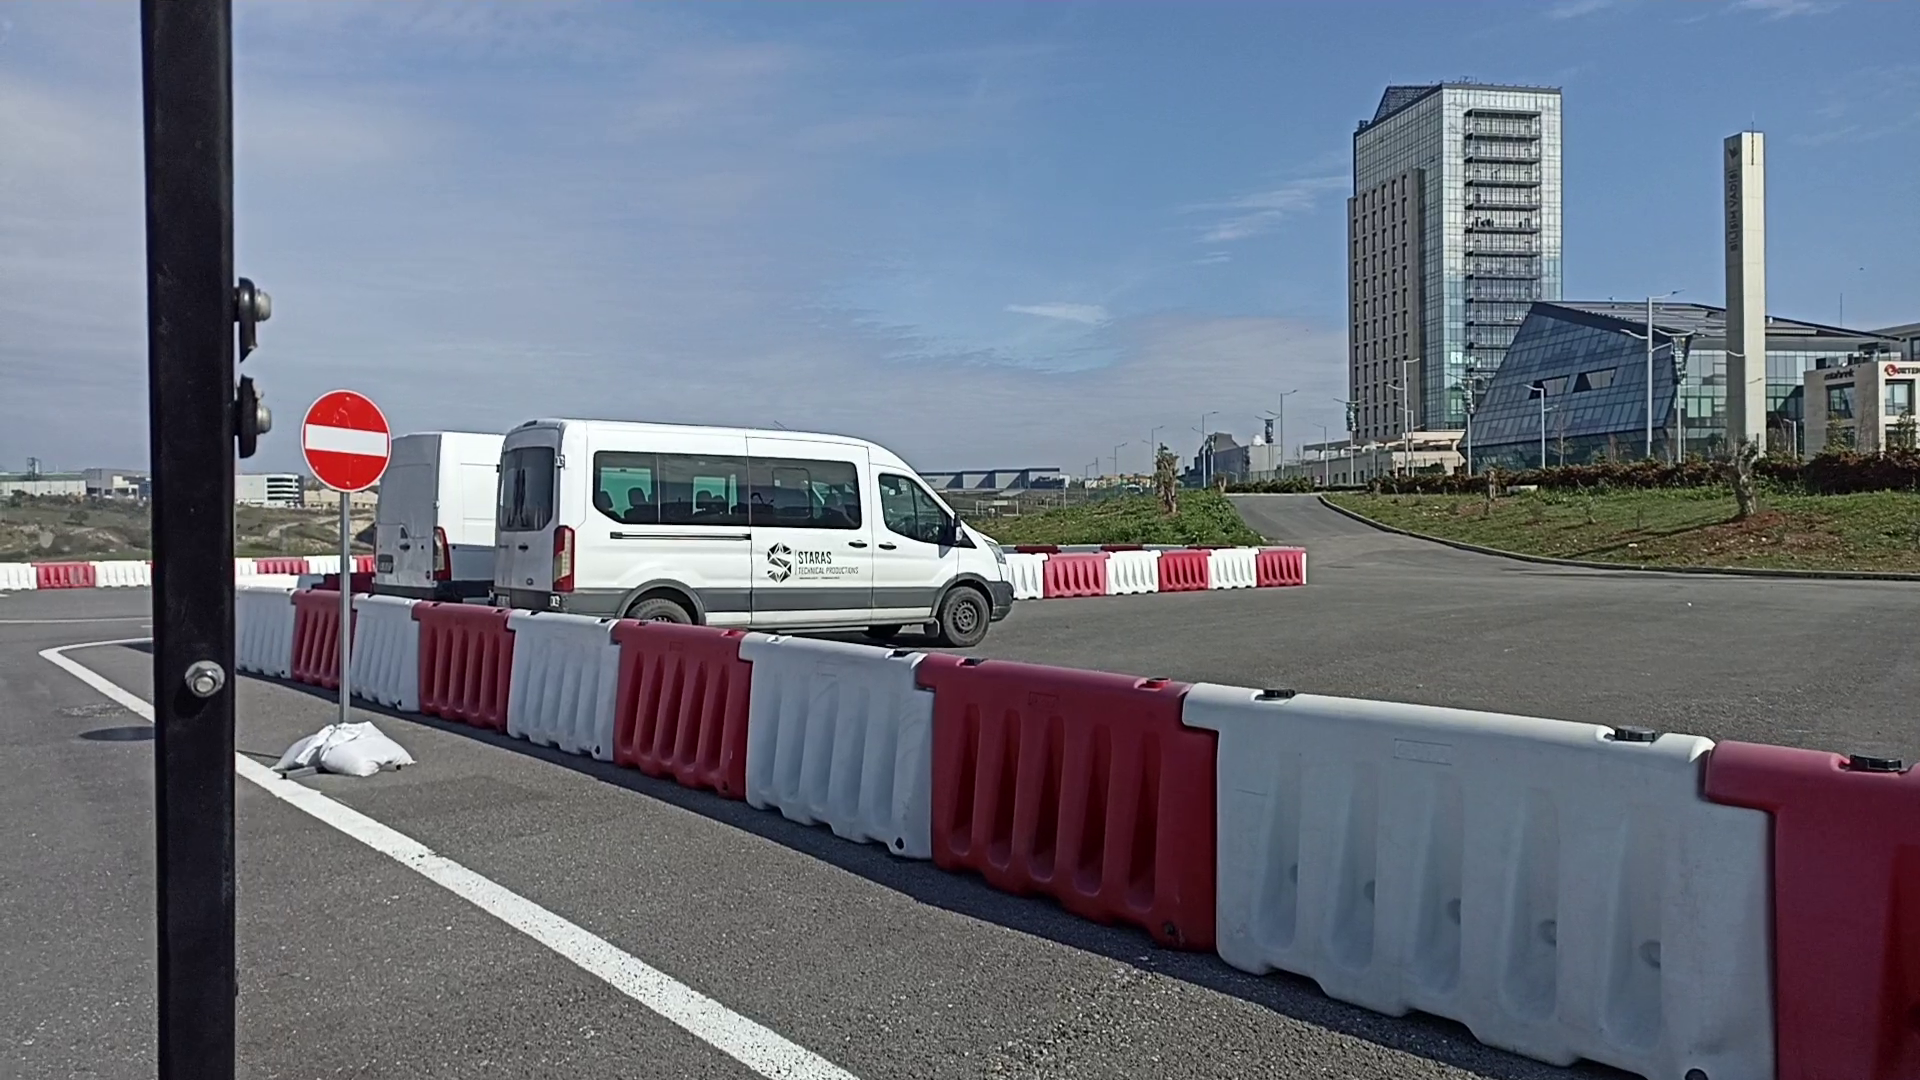noentryway: (298, 388, 392, 492)
